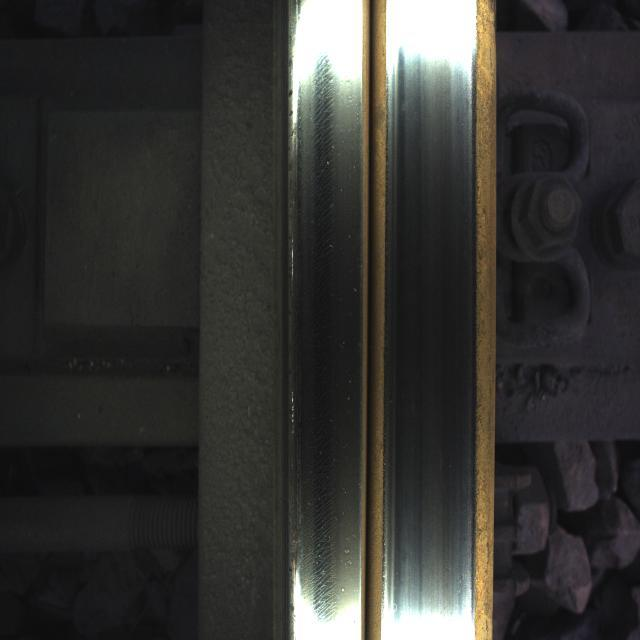break: (391, 49, 470, 536)
normal: (287, 51, 353, 492)
